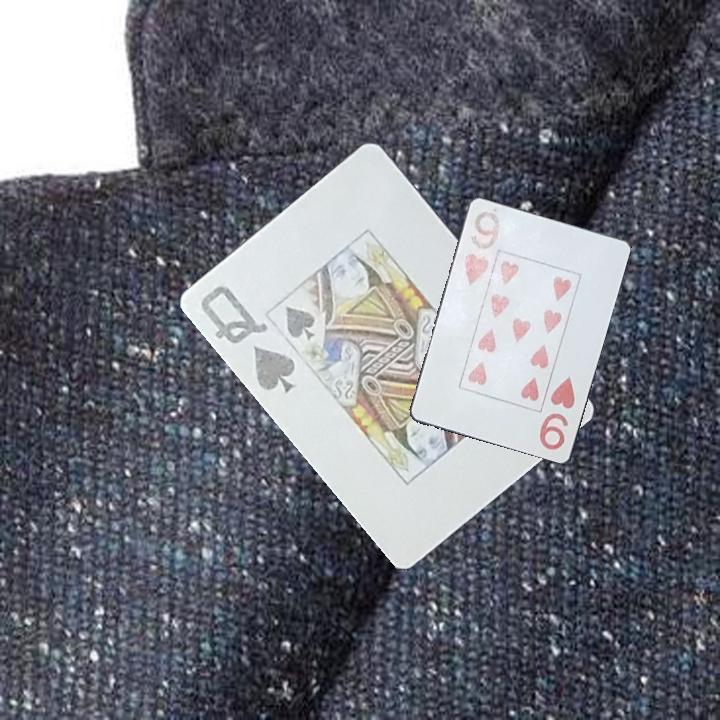9h: (457, 206, 504, 289), (536, 373, 578, 453)
Qs: (197, 281, 302, 397)
